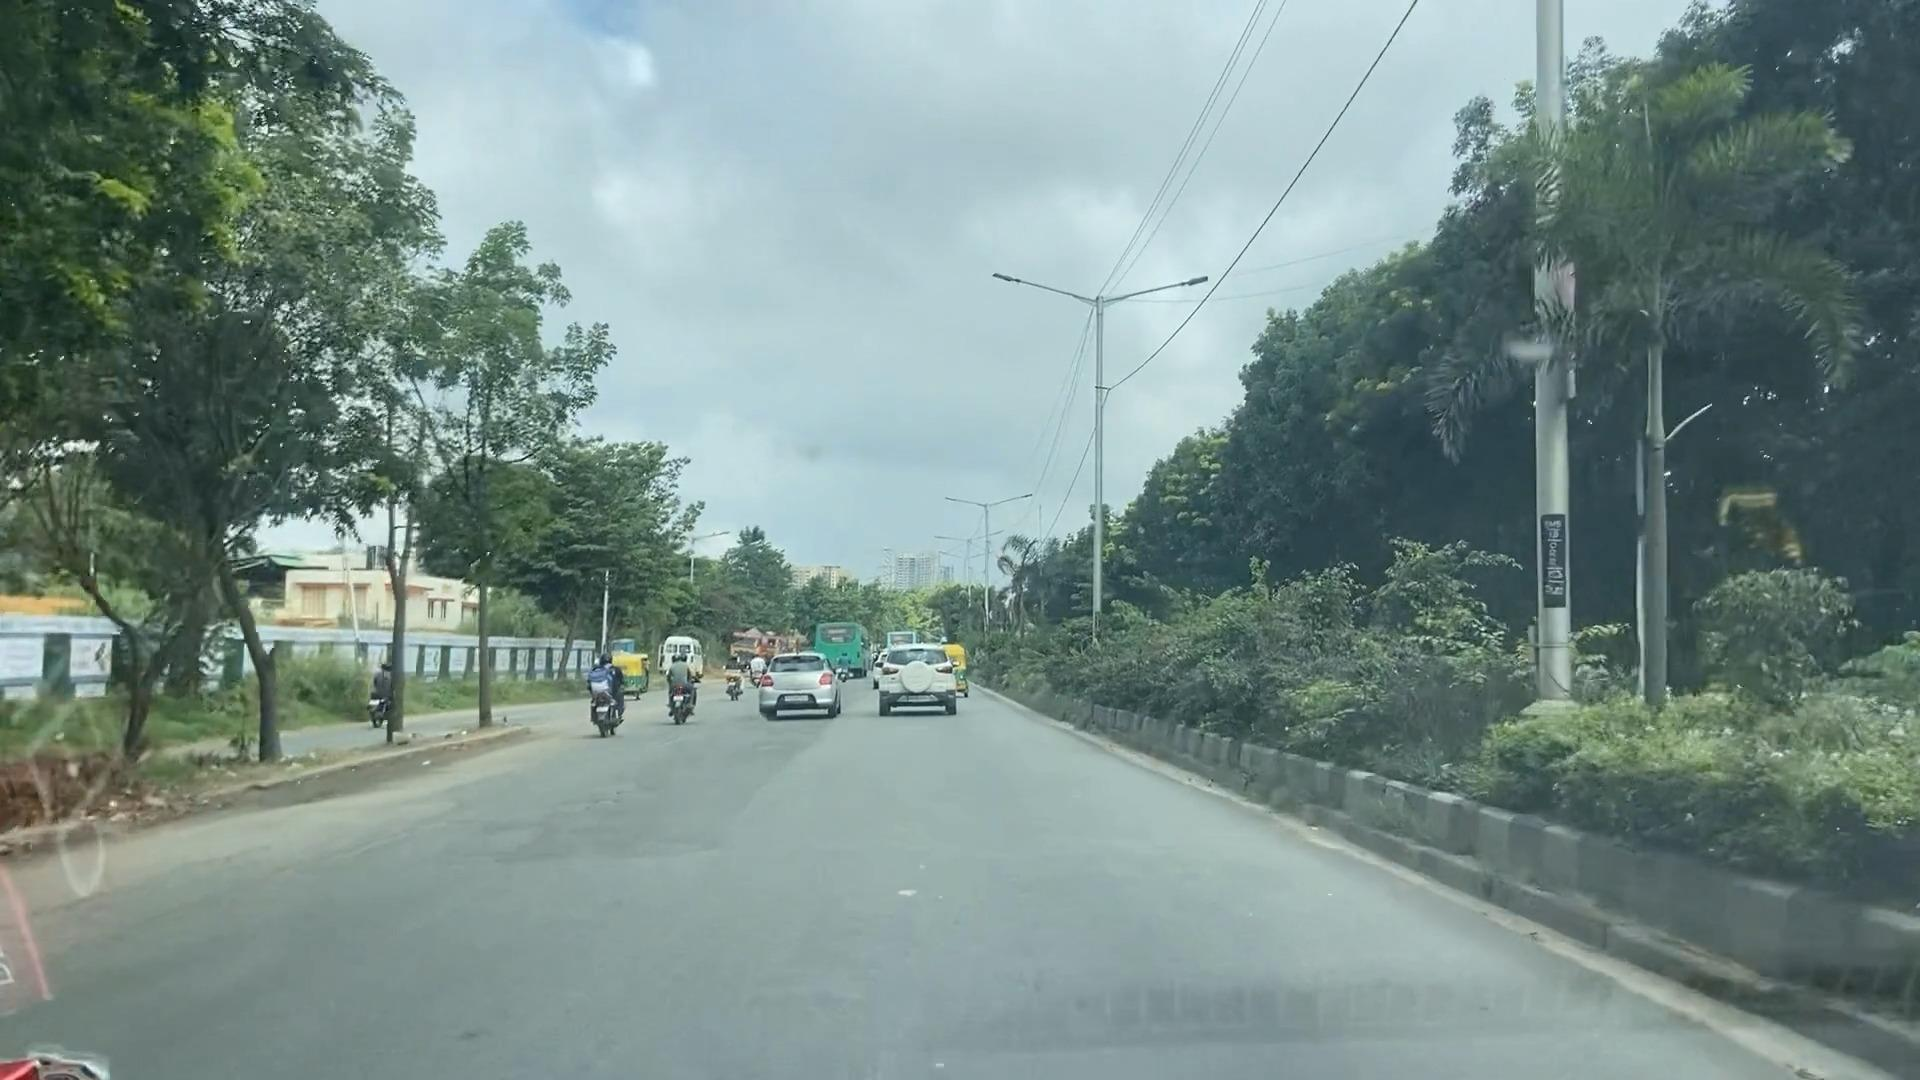LMV: (748, 634, 849, 727), (874, 626, 974, 716), (356, 642, 420, 739), (658, 630, 711, 735), (580, 644, 638, 737)
